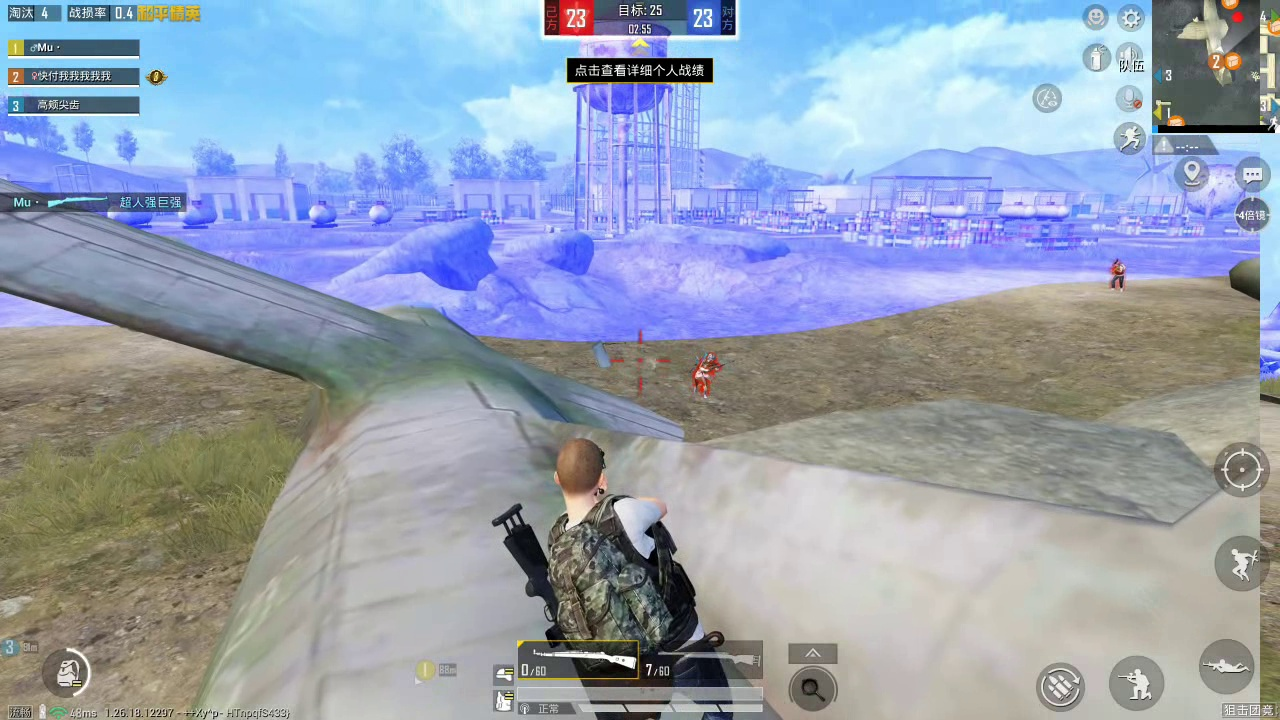enemy: (695, 350, 716, 398), (1109, 258, 1126, 289)
